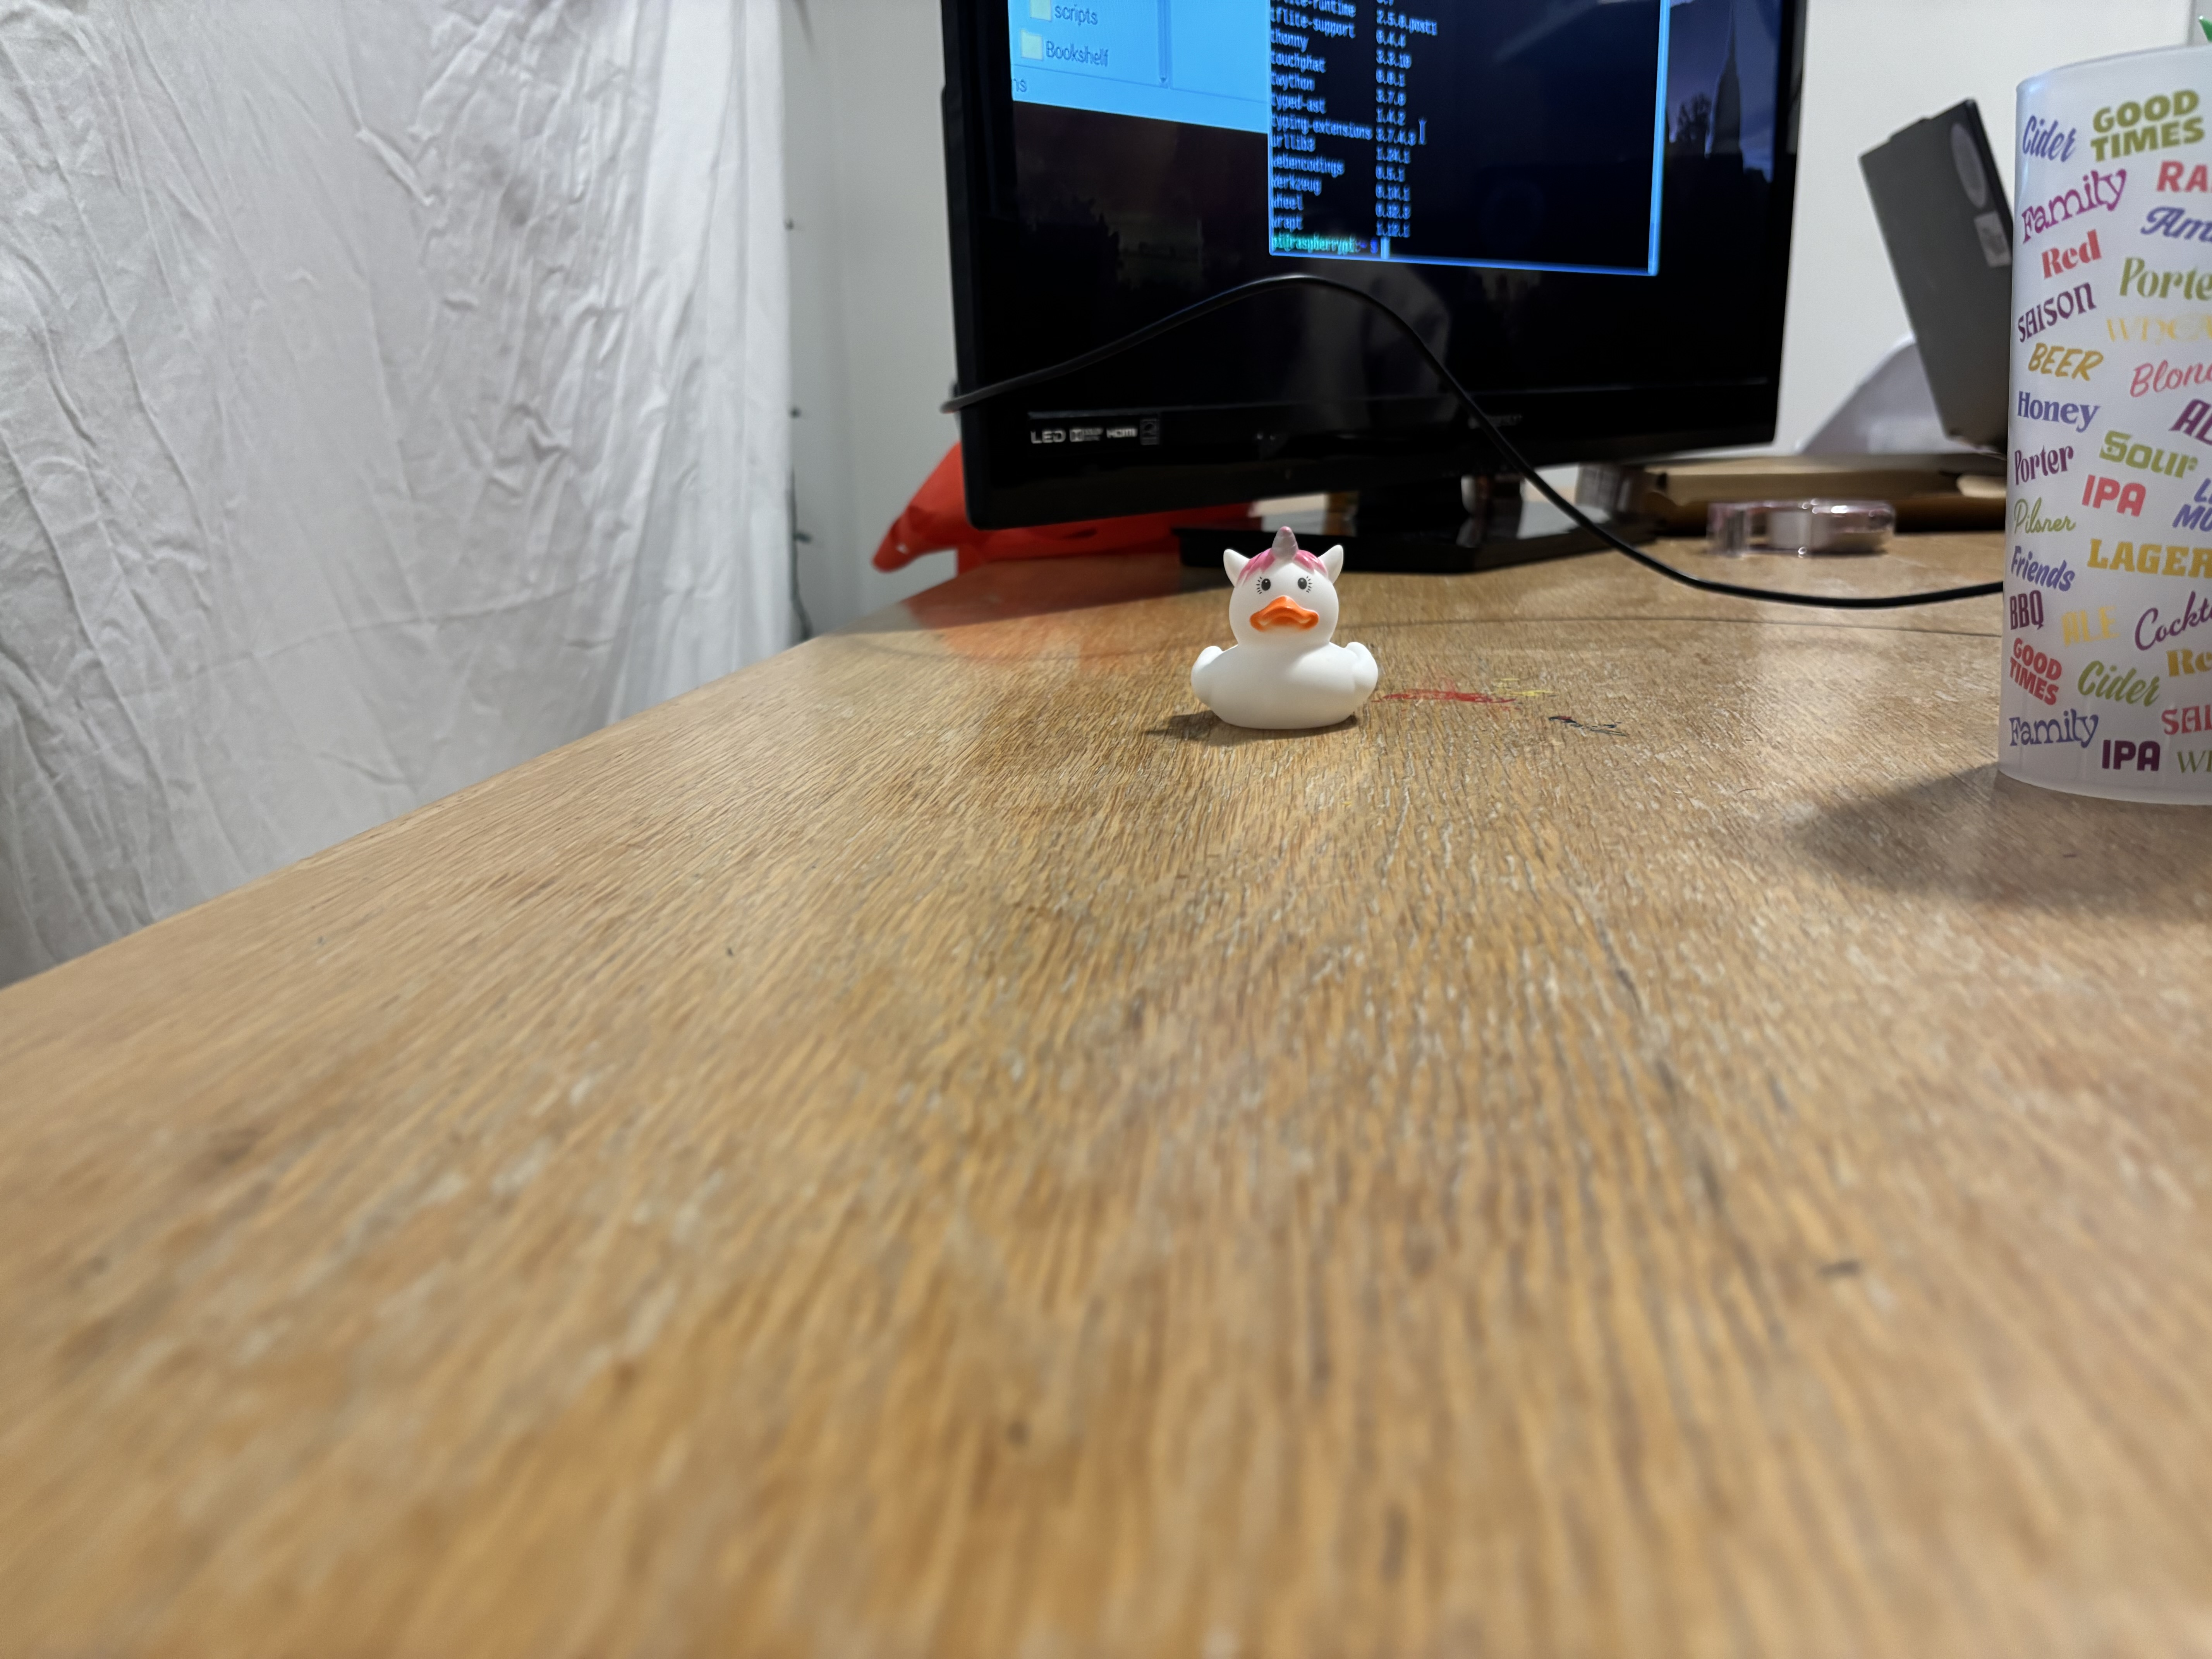Ducks (Specialty): (1184, 518, 1399, 720)
